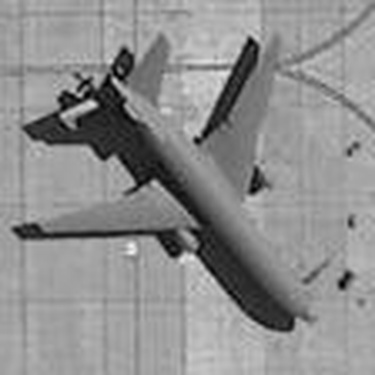airplane: (15, 25, 324, 334)
